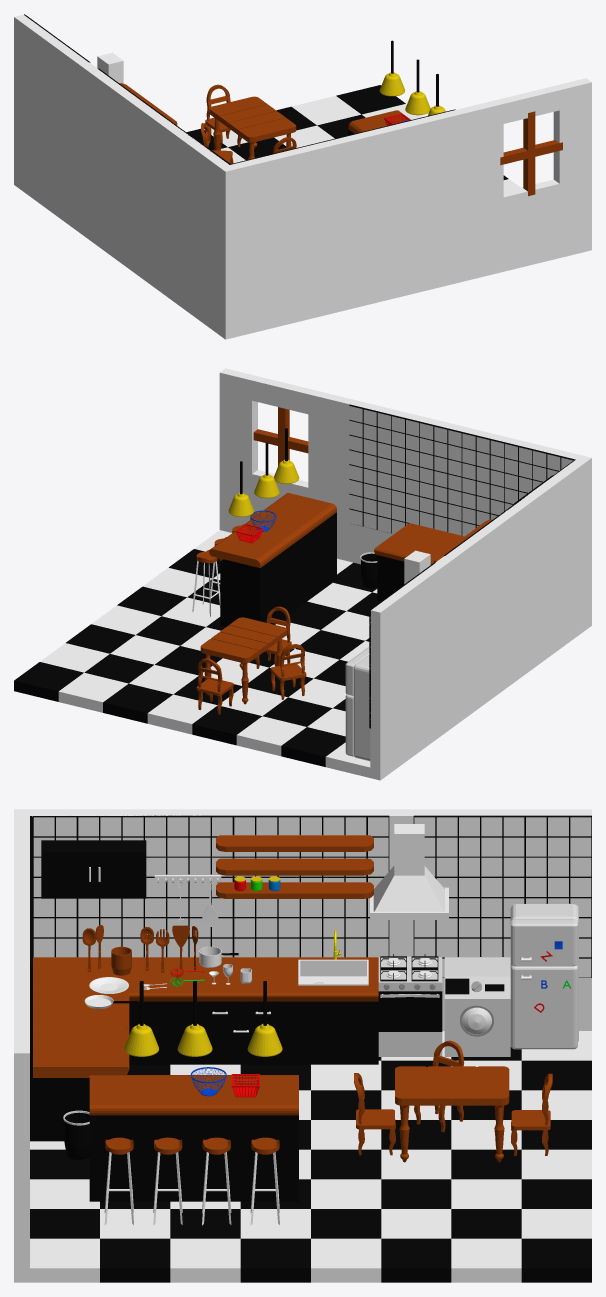
The model's file is demoscene.fbx.
3 renders of one model, top to bottom at view 1: azimuth 30°, elevation 25°; view 2: azimuth 150°, elevation 25°; view 3: azimuth 270°, elevation 25°, orthographic. The views are drawn at different scales.
Parts seen in each view (by area): view 1: Plane, table, fenetre, Cube, chair, lamp.001, Cube.018, lamp.002; view 2: Plane, Plane.004, Cube, Plane.003, Cube.007, table, fridge, fenetre, chair, chair.002, Cube.022, chair.001 (+5 smaller); view 3: Plane, Cube, Plane.007, Plane.006, Plane.005, Cube.009, fridge, Cube.008, Cube.006, étagère, Cube.007, Cube.003 (+18 smaller).
Part boxes in pixels (box(x1,y1,x2,y2)): Plane: box(14, 14, 591, 339); table: box(209, 96, 296, 159); fenetre: box(500, 111, 562, 196); Cube: box(348, 110, 410, 135); chair: box(205, 84, 241, 150); lamp.001: box(405, 59, 430, 115); Cube.018: box(97, 52, 123, 83); lamp.002: box(379, 40, 404, 96); Plane: box(14, 368, 591, 780); Plane.004: box(349, 404, 462, 535); Cube: box(209, 493, 336, 627); Plane.003: box(462, 432, 575, 536); Cube.007: box(374, 523, 464, 601); table: box(200, 617, 287, 704); fridge: box(345, 647, 370, 761); fenetre: box(253, 407, 308, 465); chair: box(196, 658, 233, 714); chair.002: box(270, 644, 306, 699); Cube.022: box(192, 550, 220, 616); chair.001: box(255, 606, 291, 668); Plane: box(14, 809, 591, 1282); Cube: box(89, 1075, 298, 1201); Plane.007: box(413, 815, 591, 977); Plane.006: box(33, 815, 211, 957); Plane.005: box(211, 815, 389, 957); Cube.009: box(33, 957, 198, 1064); fridge: box(510, 903, 578, 1049); Cube.008: box(288, 957, 378, 1064); Cube.006: box(199, 957, 288, 1064); étagère: box(216, 835, 373, 898); Cube.007: box(30, 1029, 129, 1141); Cube.003: box(444, 957, 510, 1056).
Bounding box in the file's own units: 2269 × 994 × 2269.
